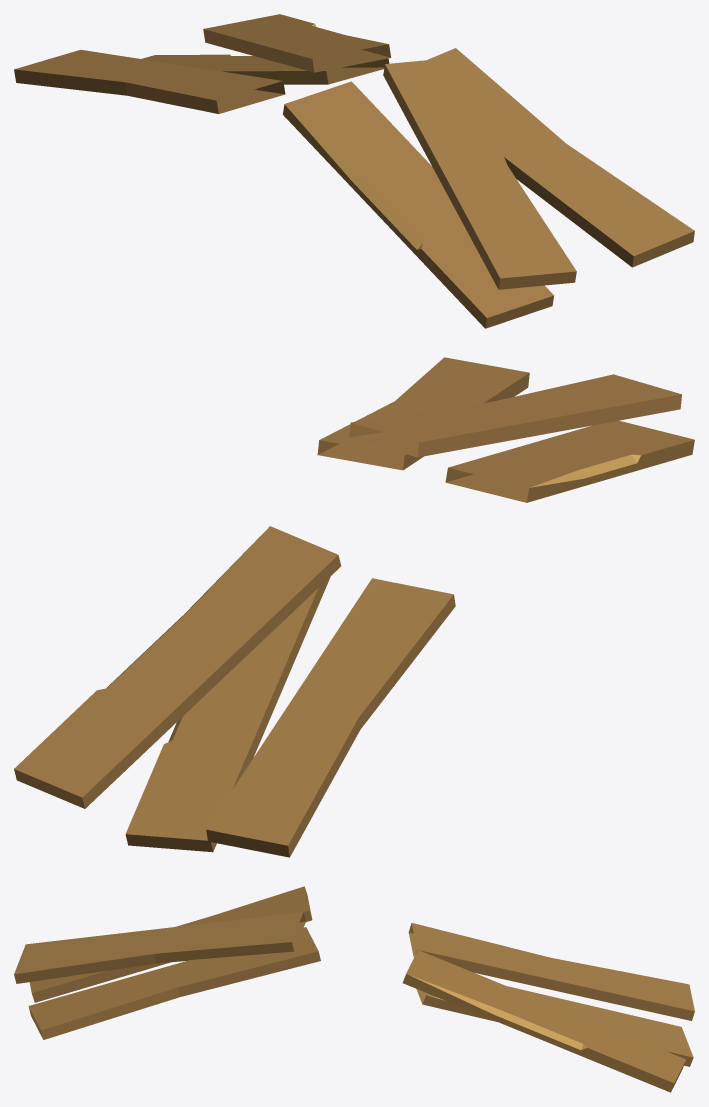
Rendered from brokenplanks.fbx.
3 renders of one model, top to bottom at view 1: azimuth 30°, elevation 25°; view 2: azimuth 150°, elevation 25°; view 3: azimuth 270°, elevation 25°, orthographic. The views are drawn at different scales.
Visible parts, largest first — view 1: WoodPlanks.001; view 2: WoodPlanks.001; view 3: WoodPlanks.001.
Part boxes in pixels (<box>): WoodPlanks.001: <box>14,14,694,328</box>; WoodPlanks.001: <box>14,357,694,857</box>; WoodPlanks.001: <box>14,886,694,1092</box>.
Bounding box in the file's own units: 71.64 × 47.67 × 198.
